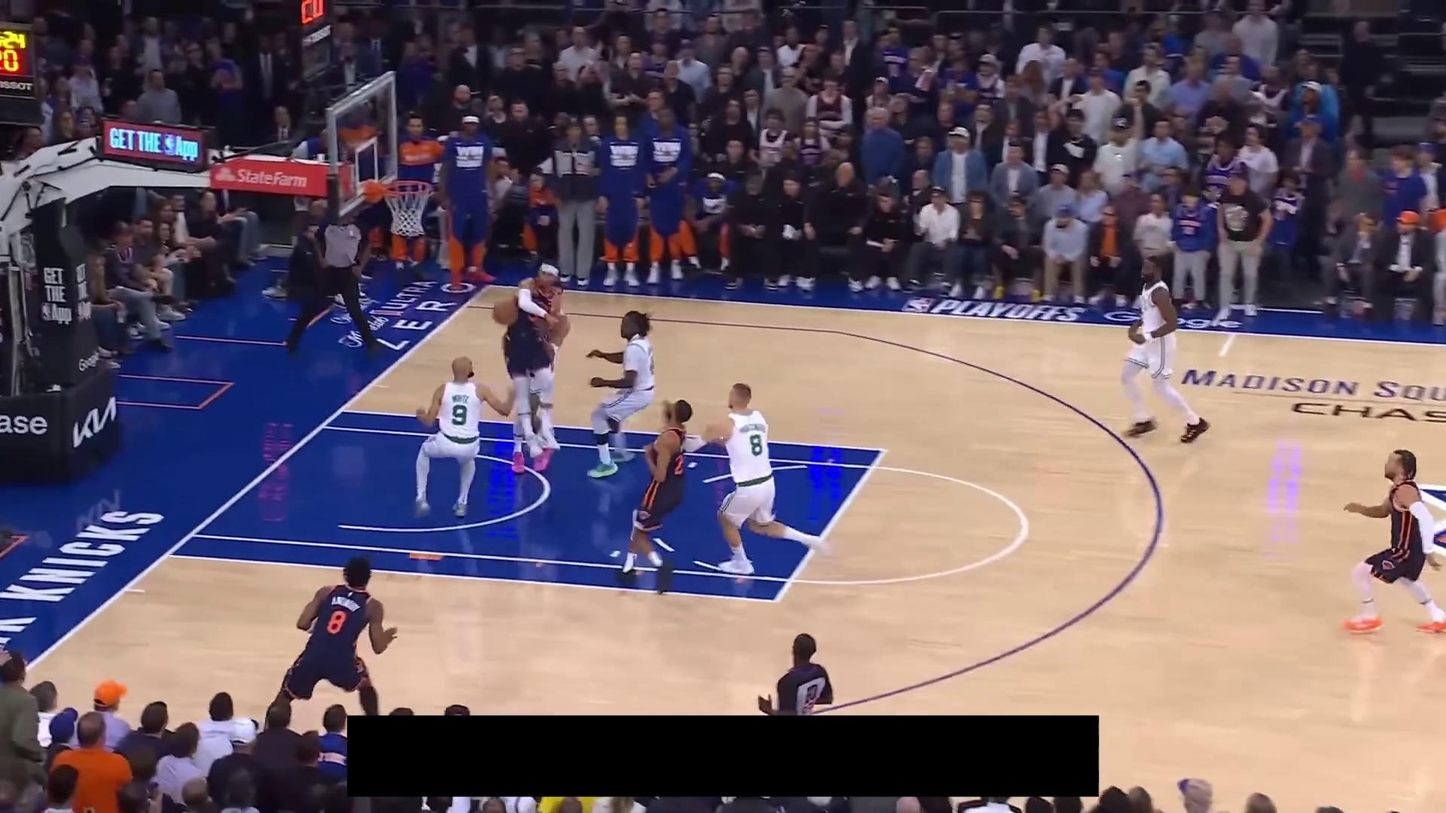ball: (493, 300, 519, 326)
number: (326, 610, 346, 635), (750, 433, 766, 457), (450, 404, 468, 425)
player: (681, 383, 833, 575), (262, 554, 396, 721), (1339, 447, 1446, 637), (1118, 255, 1211, 444), (410, 355, 517, 515), (614, 397, 697, 597), (502, 279, 574, 473), (582, 307, 662, 478)
player-in-possession: (491, 258, 572, 457)
referee: (282, 212, 381, 356), (757, 631, 835, 714)
rim: (384, 179, 435, 200)
